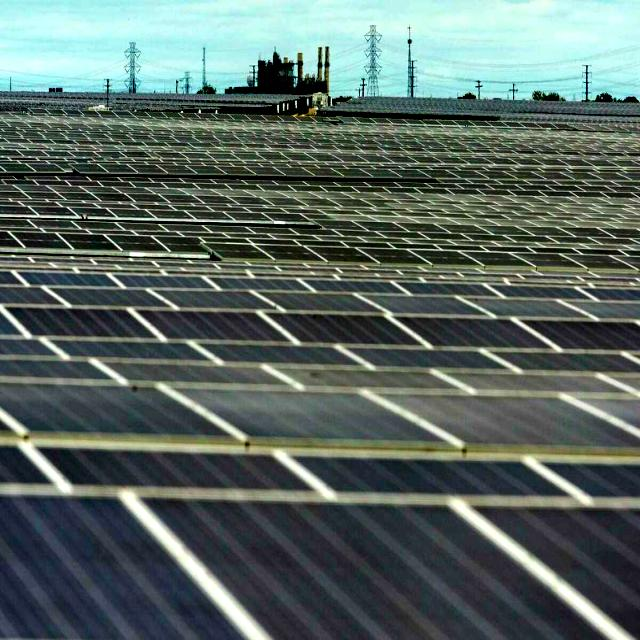dust: (3, 384, 175, 433), (194, 391, 382, 428), (426, 393, 598, 433)
